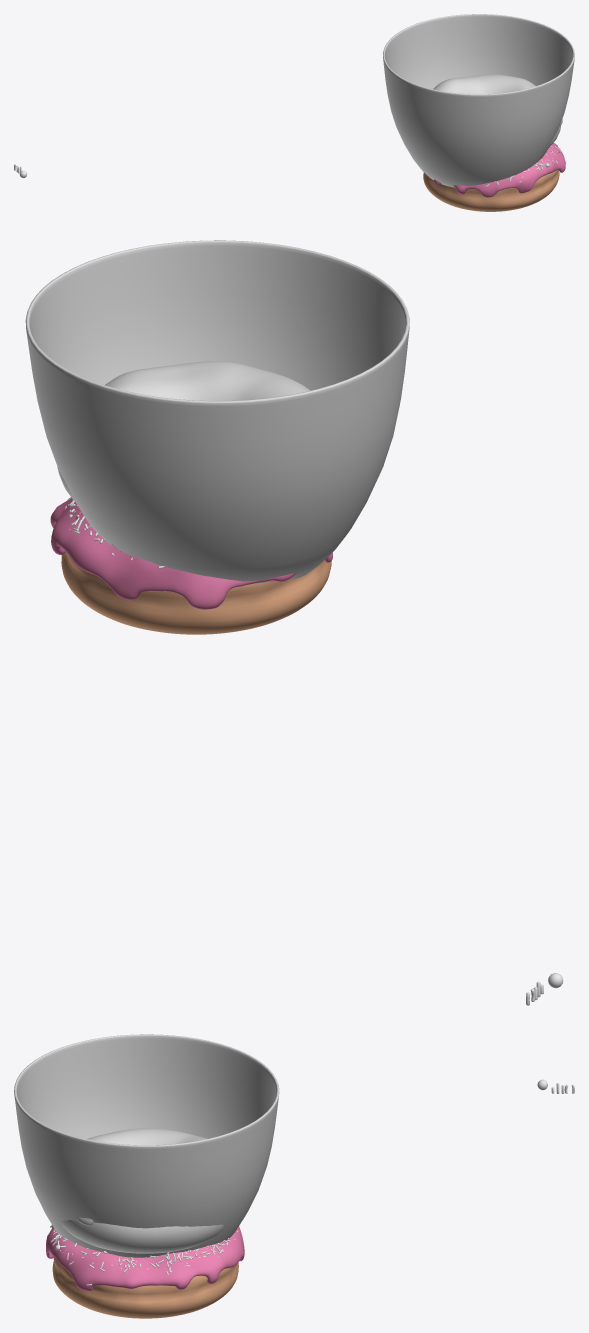
Rendered from Donut1.fbx.
3 renders of one model, top to bottom at view 1: azimuth 30°, elevation 25°; view 2: azimuth 150°, elevation 25°; view 3: azimuth 270°, elevation 25°, orthographic. The views are drawn at different scales.
Parts seen in each view (by area): view 1: Cylinder, Donut, Icing, Icing.001; view 2: Cylinder, Donut, Icing, Icing.001; view 3: Cylinder, Icing, Donut, Donut.001, Icing.001.
Boxes of the visible parts, box(x1,y1,x2,y2) form: Cylinder: box(383, 14, 574, 187); Donut: box(423, 170, 559, 211); Icing: box(434, 143, 565, 197); Icing.001: box(433, 74, 562, 125); Cylinder: box(25, 240, 409, 583); Donut: box(61, 551, 331, 634); Icing: box(50, 498, 332, 609); Icing.001: box(105, 361, 310, 400); Cylinder: box(14, 1034, 279, 1257); Icing: box(46, 1226, 244, 1291); Donut: box(52, 1256, 238, 1318); Donut.001: box(61, 1220, 223, 1253); Icing.001: box(77, 1128, 207, 1225).
Size of what is drawn, in the model's own units: 48.12 by 17.73 by 42.43.
